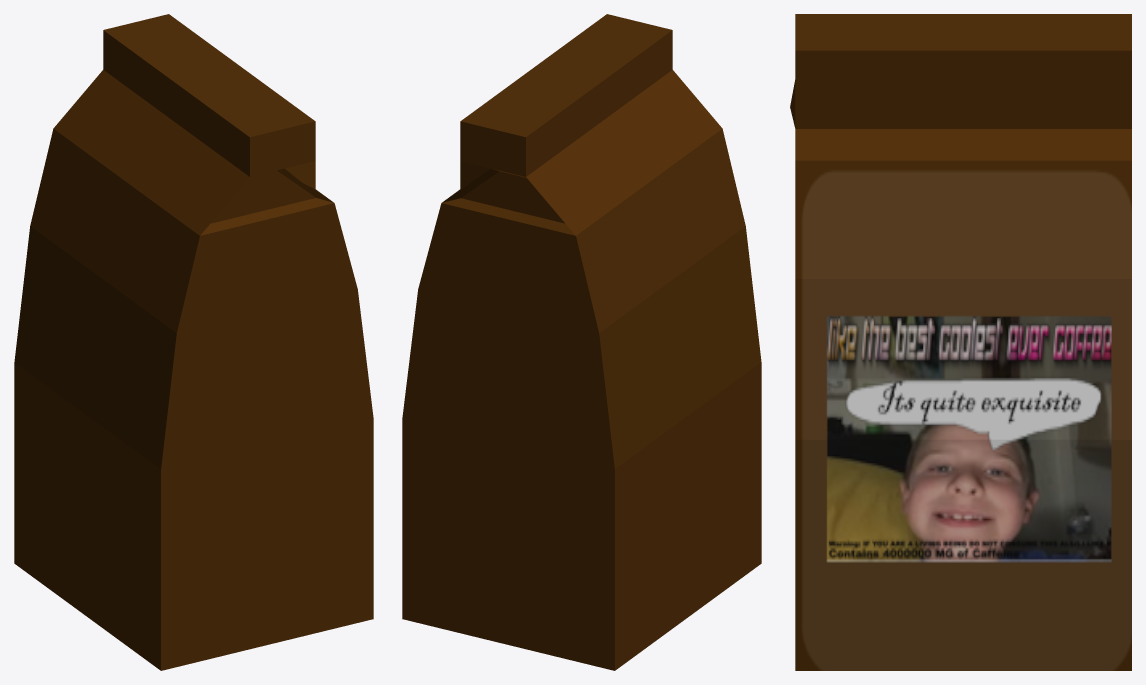
The model's file is co fey.fbx.
3 views of the same model, side by side, from view 1: azimuth 30°, elevation 25°; view 2: azimuth 150°, elevation 25°; view 3: azimuth 270°, elevation 25° (orthographic). The views are drawn at different scales.
Visible parts, largest first — view 1: Cube; view 2: Cube; view 3: Cube.
Boxes of the visible parts, x1,y1,x2,y2 form: Cube: (14,14,373,670); Cube: (402,14,761,670); Cube: (790,14,1131,670).
Size of the model in its own units: 47.67 by 110 by 57.89.
